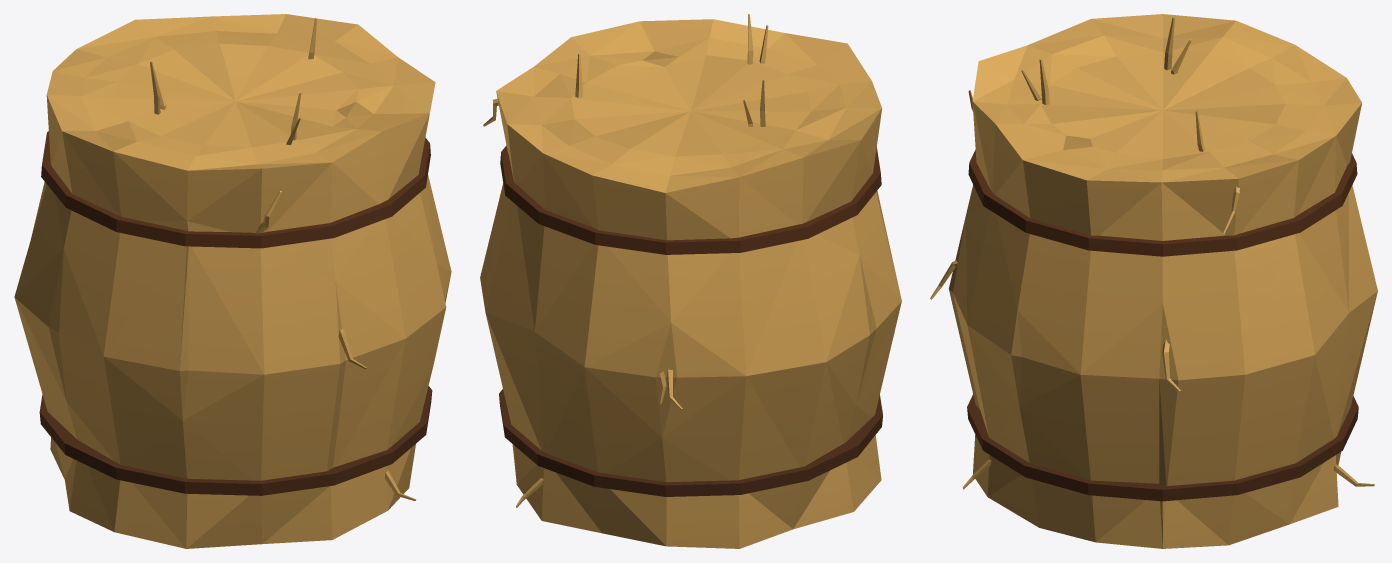
The model's file is Prop_Hay_Bale_Round_02.obj.
3 views of the same model, side by side, from view 1: azimuth 30°, elevation 25°; view 2: azimuth 150°, elevation 25°; view 3: azimuth 270°, elevation 25° (orthographic). The views are drawn at different scales.
Parts seen in each view (by area): view 1: Prop_Hay_Bale_Round_02; view 2: Prop_Hay_Bale_Round_02; view 3: Prop_Hay_Bale_Round_02.
Boxes of the visible parts, x1,y1,x2,y2 form: Prop_Hay_Bale_Round_02: [14, 14, 451, 548]; Prop_Hay_Bale_Round_02: [480, 14, 901, 548]; Prop_Hay_Bale_Round_02: [930, 14, 1377, 548].
Size of the model in its own units: 1.29 by 1.37 by 1.33.
Materials: 1 (1 with a texture image).
